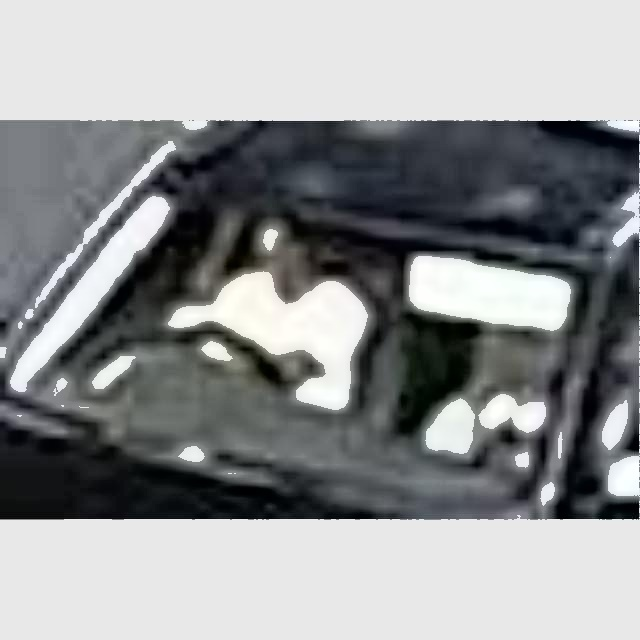tidak-pakai: (141, 196, 366, 445)
